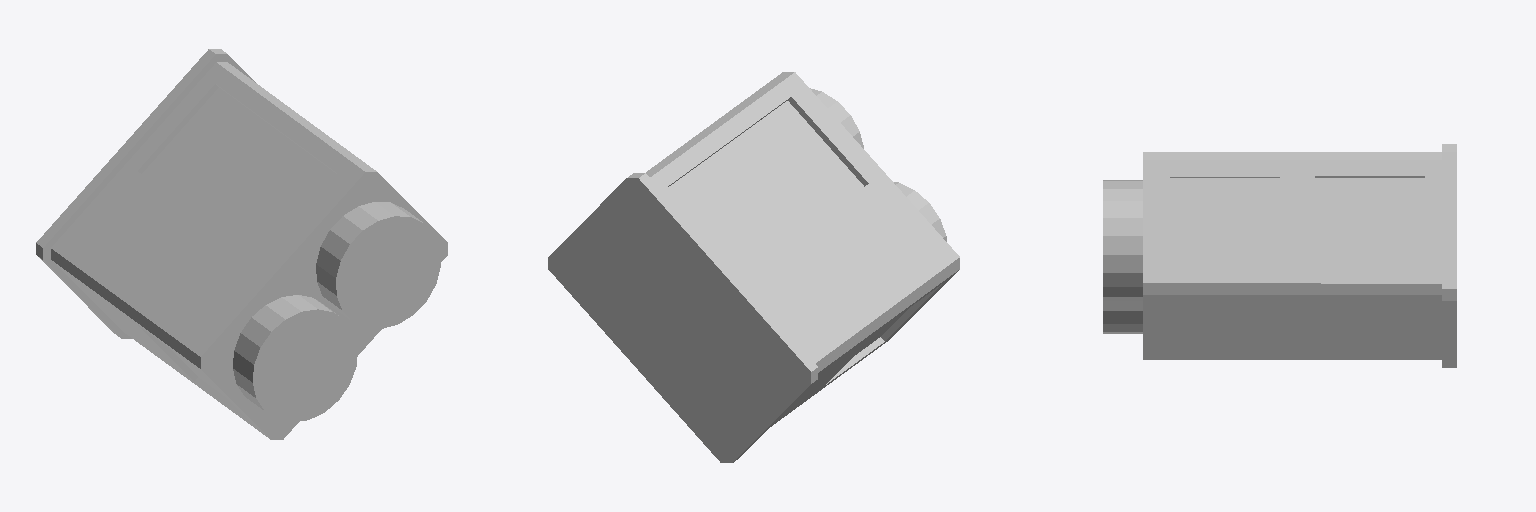
The model's file is Prop_3.obj.
3 renders of one model, left to right at view 1: azimuth 30°, elevation 25°; view 2: azimuth 150°, elevation 25°; view 3: azimuth 270°, elevation 25°, orthographic.
Parts seen in each view (by area): view 1: SM_SampleBuilding3.005; view 2: SM_SampleBuilding3.005; view 3: SM_SampleBuilding3.005.
Boxes of the visible parts, x1,y1,x2,y2 form: SM_SampleBuilding3.005: [36, 49, 447, 439]; SM_SampleBuilding3.005: [548, 72, 959, 462]; SM_SampleBuilding3.005: [1103, 144, 1456, 367].
Bounding box in the file's own units: 2.1 × 2.02 × 2.44.